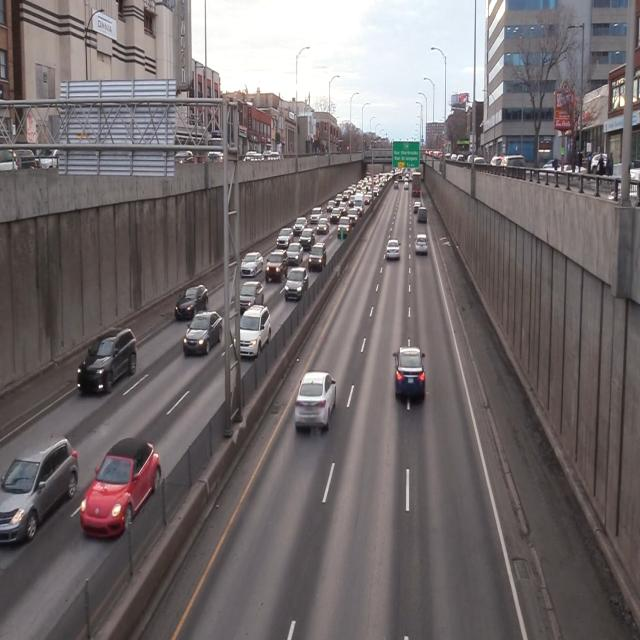Car: (0, 430, 74, 555), (80, 437, 162, 539), (76, 324, 145, 405), (293, 368, 338, 434), (390, 343, 427, 406), (233, 306, 273, 364), (183, 308, 224, 359), (175, 282, 212, 319)
